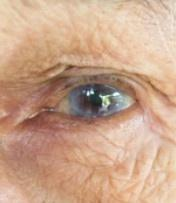eye: (69, 84, 126, 117)
